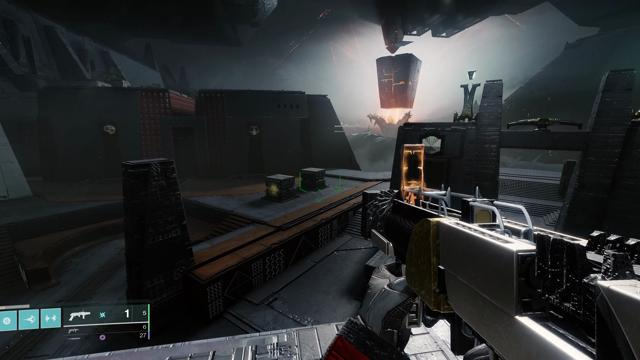brain: (103, 124, 116, 135)
commune: (423, 136, 441, 154)
drink: (248, 124, 260, 135)
